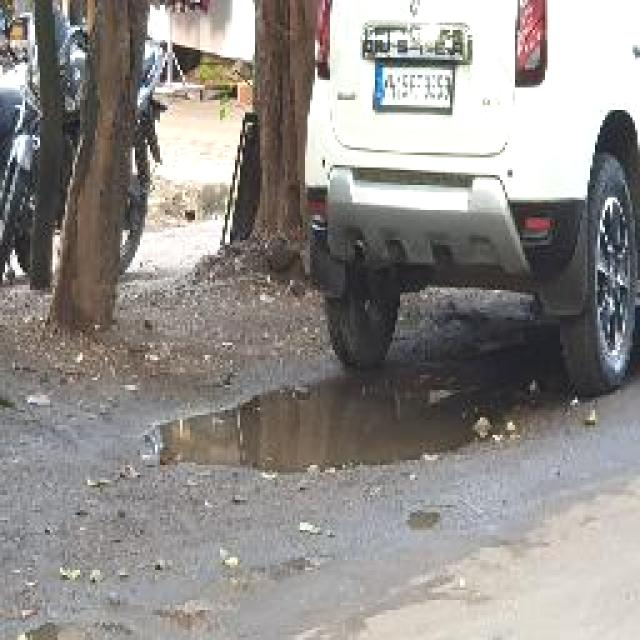stagnation: (156, 351, 528, 491)
